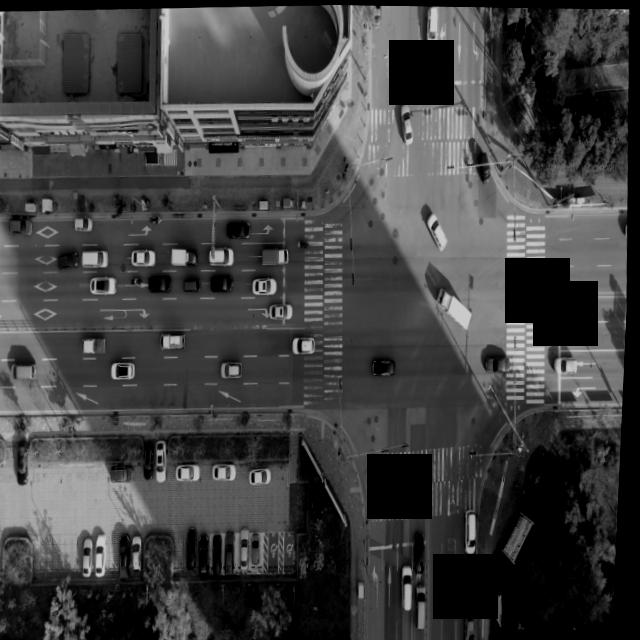car: (83, 250, 111, 270), (14, 363, 39, 382)
small_truck: (439, 287, 475, 332), (170, 245, 201, 268), (159, 329, 189, 352), (262, 246, 292, 265), (83, 336, 110, 355)
